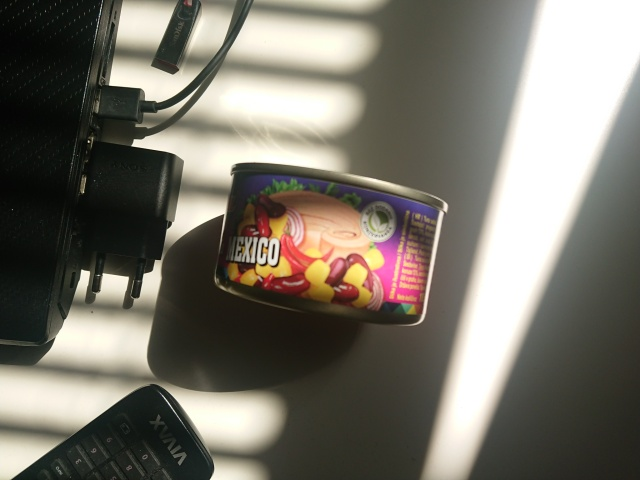Giana Tuna Salad Mexico 185g: (210, 158, 452, 332)
